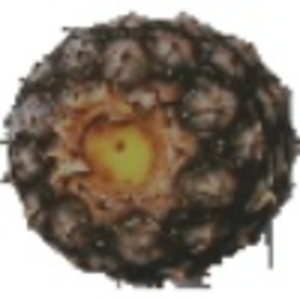abacaxi: (8, 10, 288, 284)
